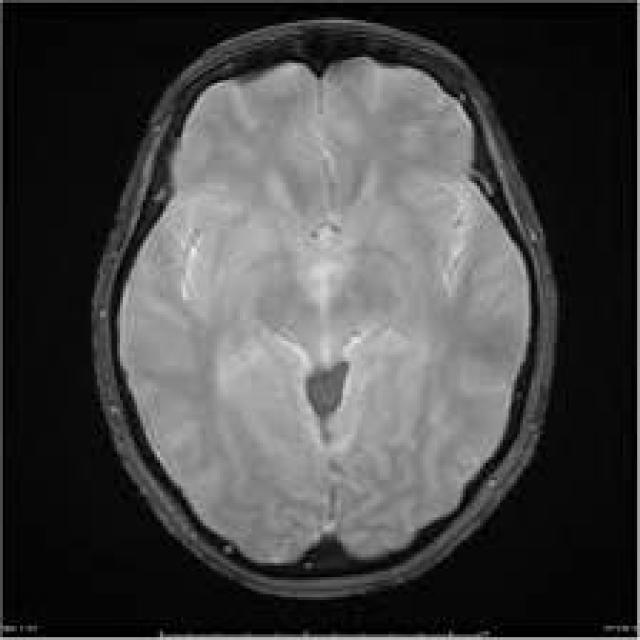no_tumor: (78, 14, 566, 609)
